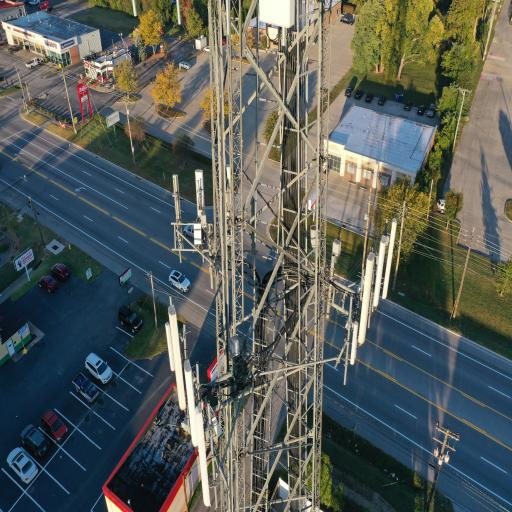supporting_tower: (169, 0, 348, 512)
